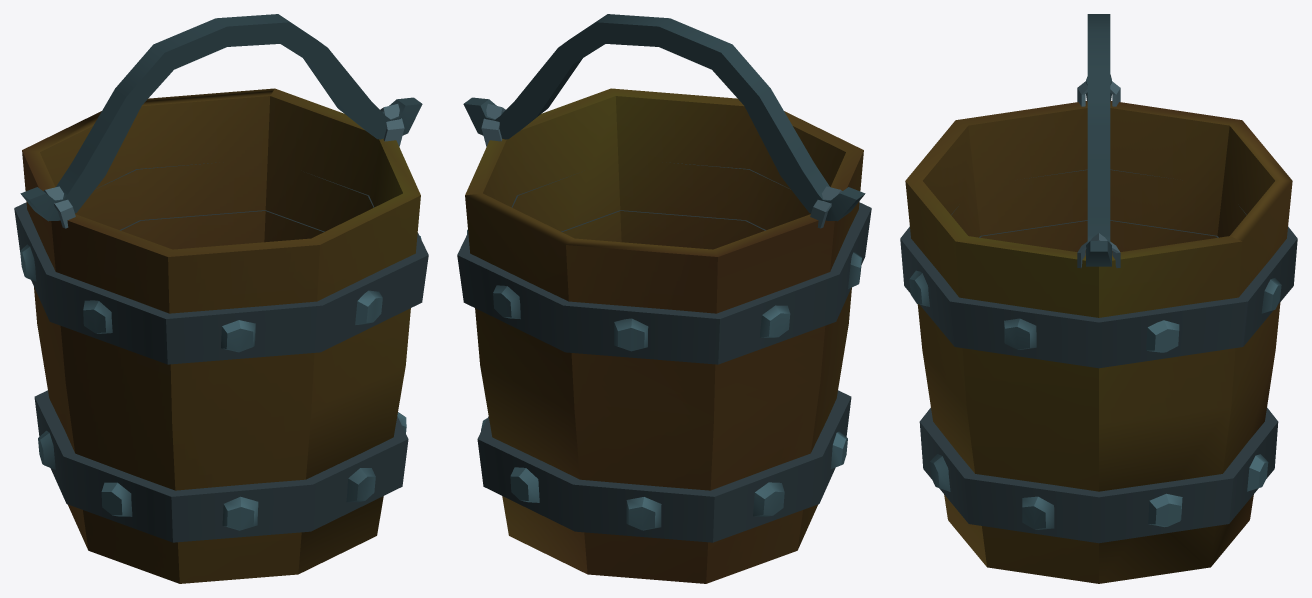
File: Bucket_Iron.fbx
3 renders of one model, left to right at view 1: azimuth 30°, elevation 25°; view 2: azimuth 150°, elevation 25°; view 3: azimuth 270°, elevation 25°, orthographic.
Parts seen in each view (by area): view 1: Bucket_Iron; view 2: Bucket_Iron; view 3: Bucket_Iron.
Part boxes in pixels (<box>): Bucket_Iron: <box>14,14,428,583</box>; Bucket_Iron: <box>457,14,871,583</box>; Bucket_Iron: <box>900,14,1297,583</box>.
Bounding box in the file's own units: 89.67 × 108 × 79.87.
